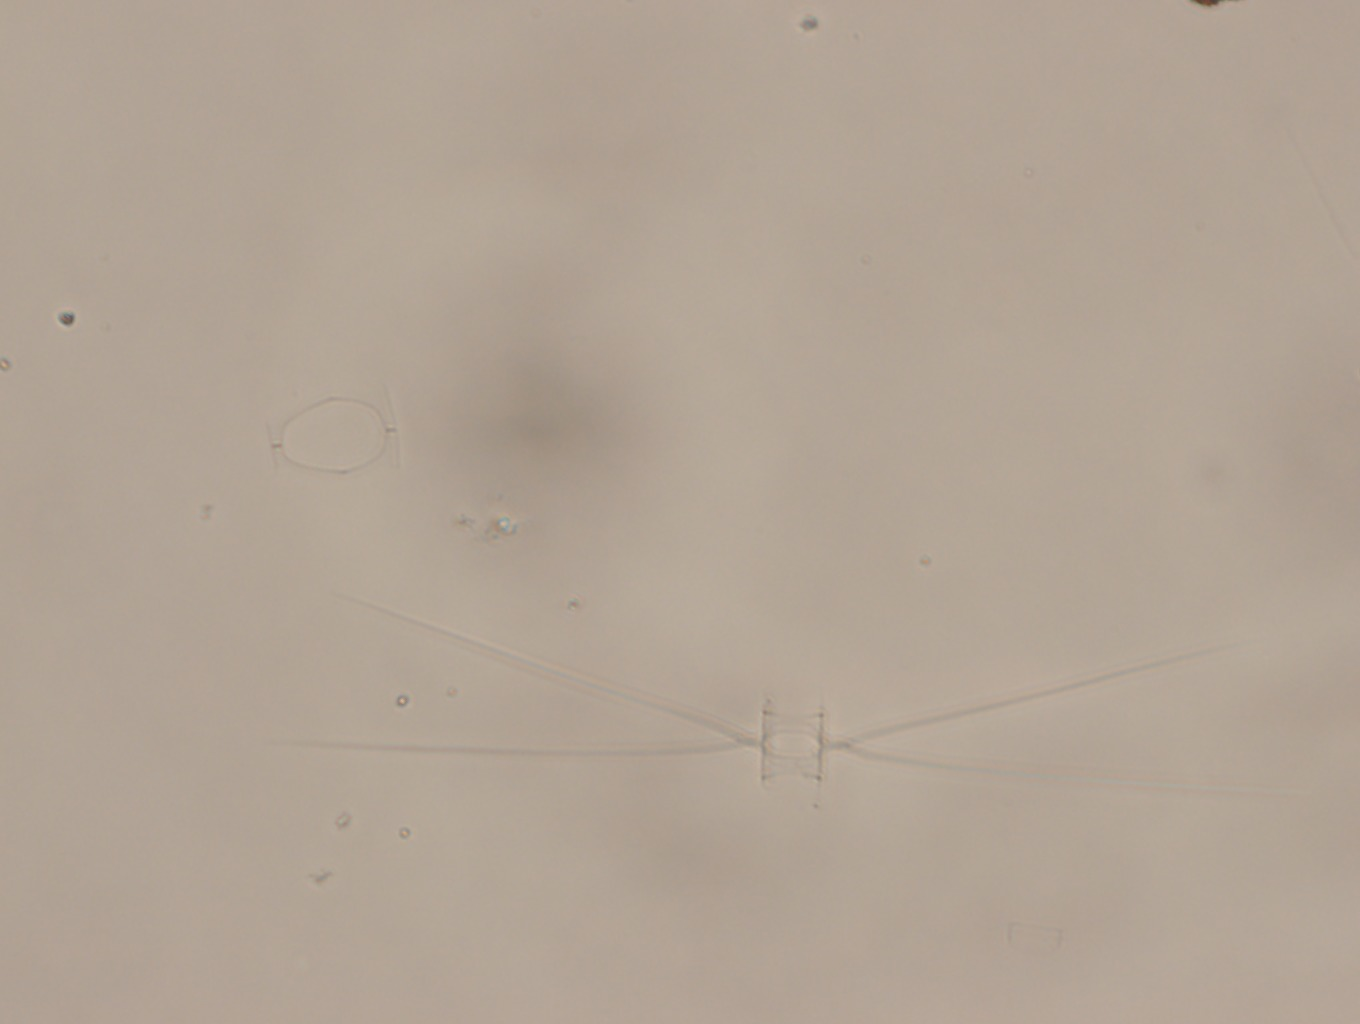chaetoceros: (307, 599, 1300, 808)
